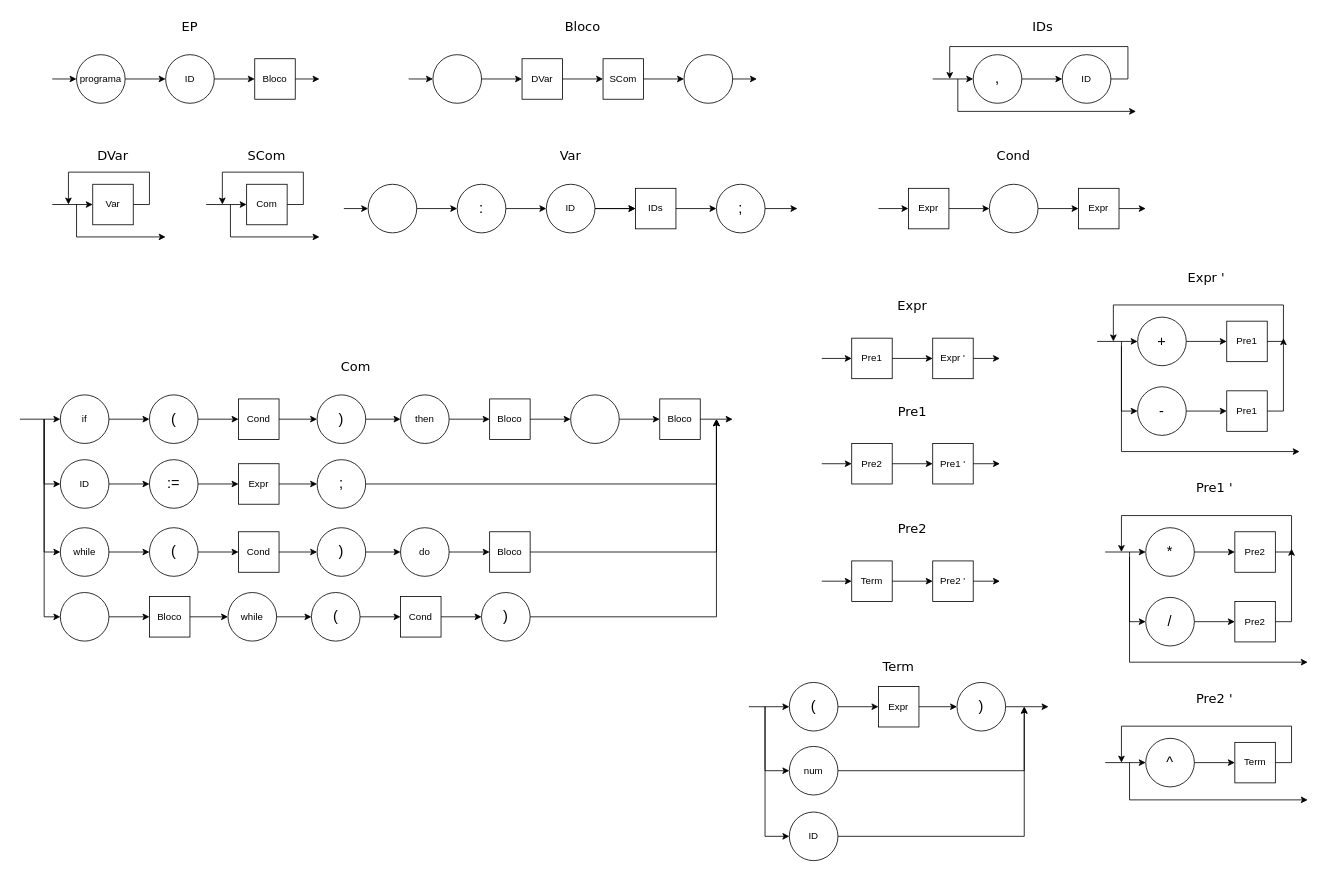
Some shapes in this 1328 by 875 pixel diagram are drawn without their labels. Each missing label, with the centre of its shape:
"begin" belongs at [457,78].
"else" belongs at [594,418].
"end" belongs at [708,78].
"relop" belongs at [1013,208].
"repeat" belongs at [84,616].
"tipo" belongs at [392,208].
